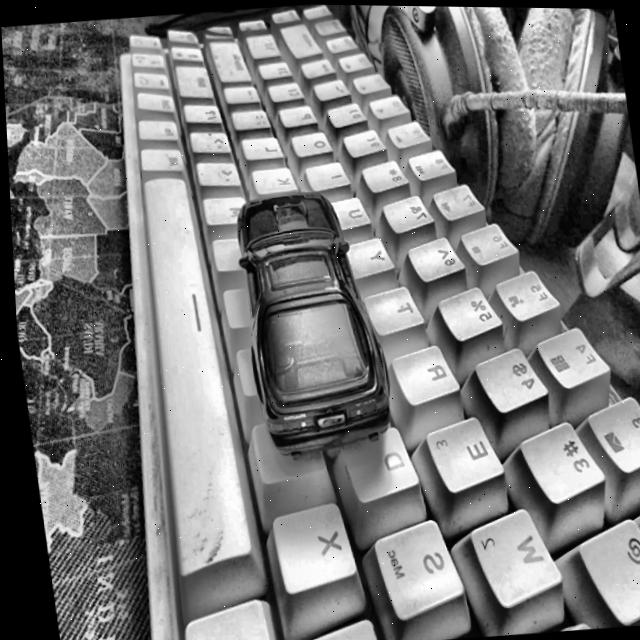car: (225, 183, 394, 458)
